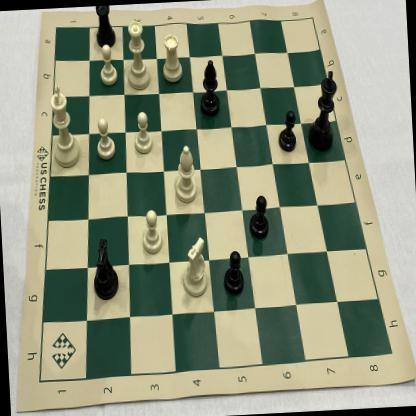bishop: (170, 141, 198, 208), (195, 56, 222, 121)
king: (303, 65, 345, 157), (45, 81, 83, 172)
knight: (88, 235, 122, 306), (178, 230, 210, 302)
pawn: (218, 246, 248, 298), (138, 205, 166, 258), (131, 106, 157, 158), (92, 114, 119, 164), (247, 188, 272, 242), (274, 107, 300, 156), (96, 41, 120, 90)
queen: (121, 14, 154, 92)
rook: (158, 29, 186, 88), (90, 5, 118, 50)
